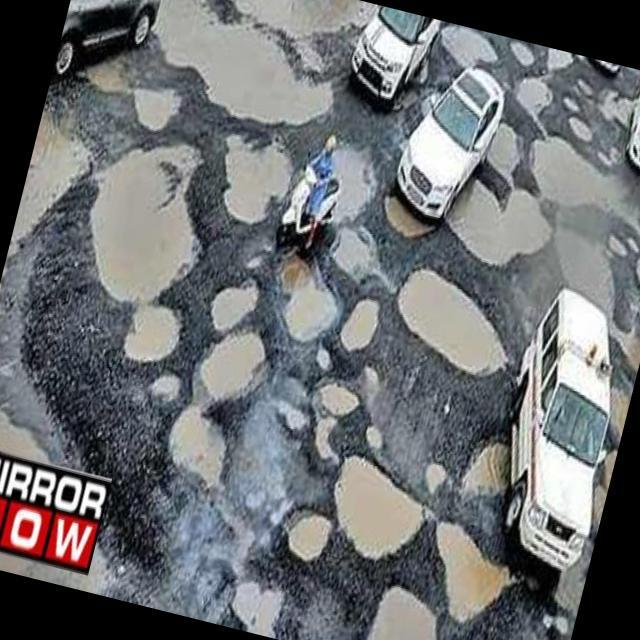Pothole: (483, 237, 640, 578), (44, 123, 238, 398), (51, 0, 351, 166), (377, 252, 550, 390), (436, 159, 568, 279), (319, 458, 440, 578), (279, 125, 400, 242), (513, 130, 640, 239), (409, 514, 528, 628), (256, 253, 365, 355), (213, 125, 308, 224), (185, 318, 277, 412), (316, 220, 398, 312), (356, 585, 487, 640), (291, 497, 362, 577), (475, 104, 541, 184), (232, 565, 302, 640), (431, 21, 512, 82), (456, 444, 528, 511), (506, 72, 572, 136), (372, 184, 440, 246), (205, 280, 268, 346), (406, 456, 470, 520), (343, 280, 398, 346), (307, 409, 359, 474), (587, 92, 640, 152), (359, 410, 401, 460), (318, 382, 360, 418), (565, 123, 598, 160), (505, 38, 535, 75), (560, 90, 587, 122), (545, 48, 573, 70)
